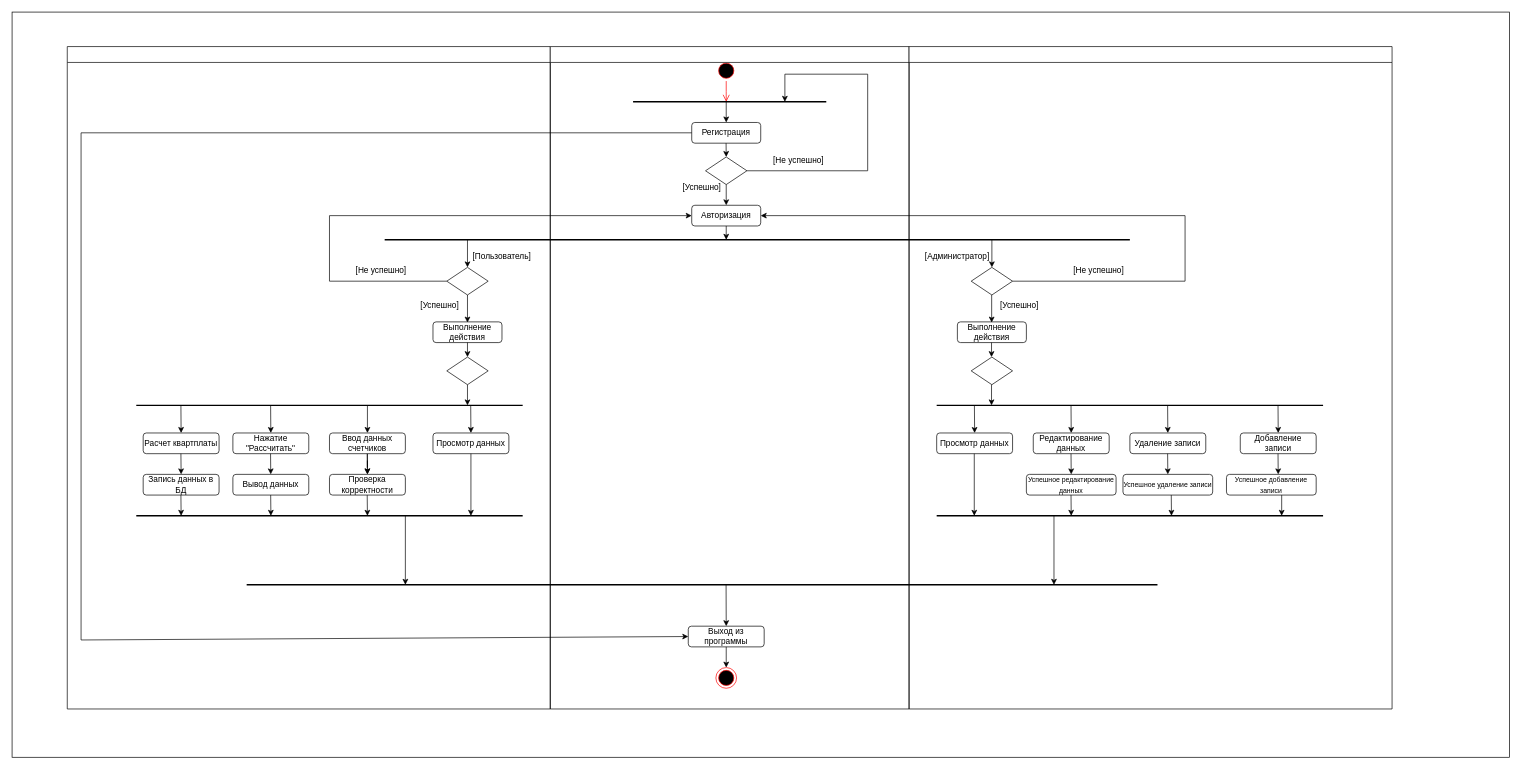
Some shapes in this 1521 by 769 pixel diagram are drawn without their labels. Here are the shapes that lost their labels. From the top down, the box of each, then its label:
(67, 46, 550, 709): Пользователь
(550, 46, 909, 709): Система
(908, 46, 1392, 709): Администратор
